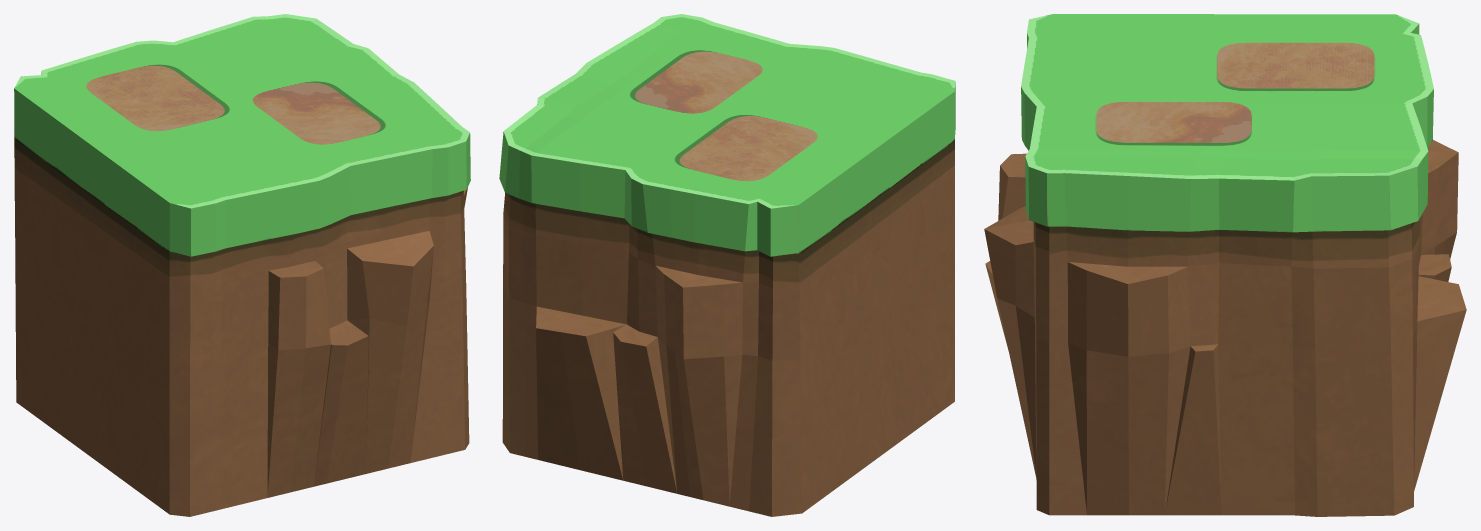
Rendered from terrain_block_left.fbx.
3 renders of one model, left to right at view 1: azimuth 30°, elevation 25°; view 2: azimuth 150°, elevation 25°; view 3: azimuth 270°, elevation 25°, orthographic. The views are drawn at different scales.
Parts seen in each view (by area): view 1: 立方体; view 2: 立方体; view 3: 立方体.
Boxes of the visible parts, x1=… form: 立方体: x1=14, y1=14, x2=470, y2=516; 立方体: x1=499, y1=14, x2=955, y2=516; 立方体: x1=984, y1=14, x2=1466, y2=516.
Size of the model in its own units: 224 by 256 by 200.
Materials: 1 (1 with a texture image).
